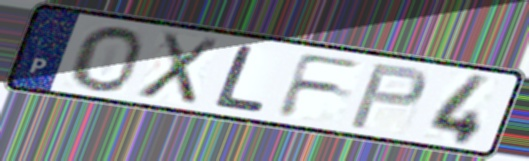4: (426, 71, 492, 147)
F: (273, 51, 368, 120)
L: (209, 42, 269, 115)
O: (67, 24, 146, 94)
P: (344, 62, 430, 132)
X: (132, 29, 224, 108)
